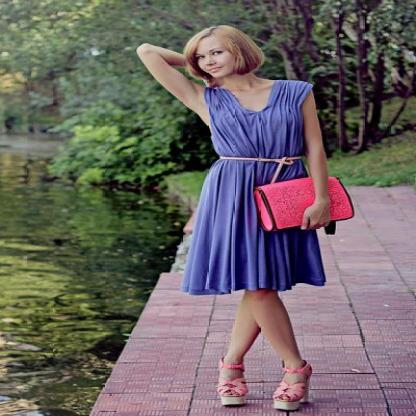bag: (254, 175, 353, 232)
dress: (172, 76, 334, 295)
shoe: (217, 380, 318, 415)
